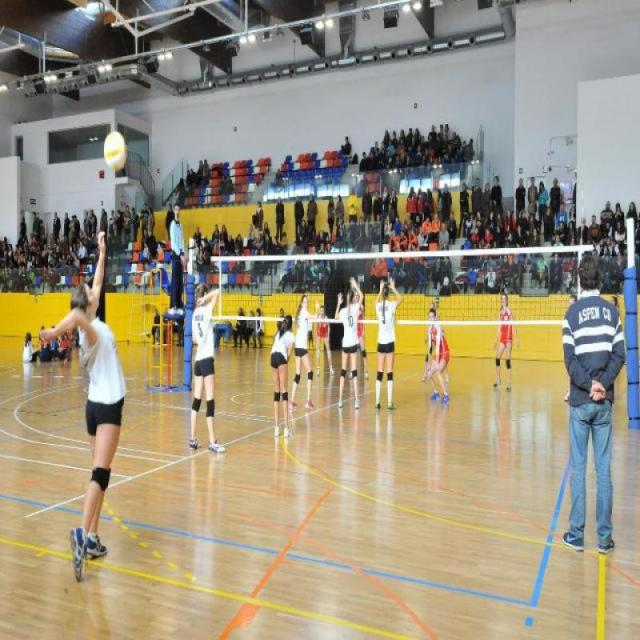volleyball: (102, 129, 128, 171)
